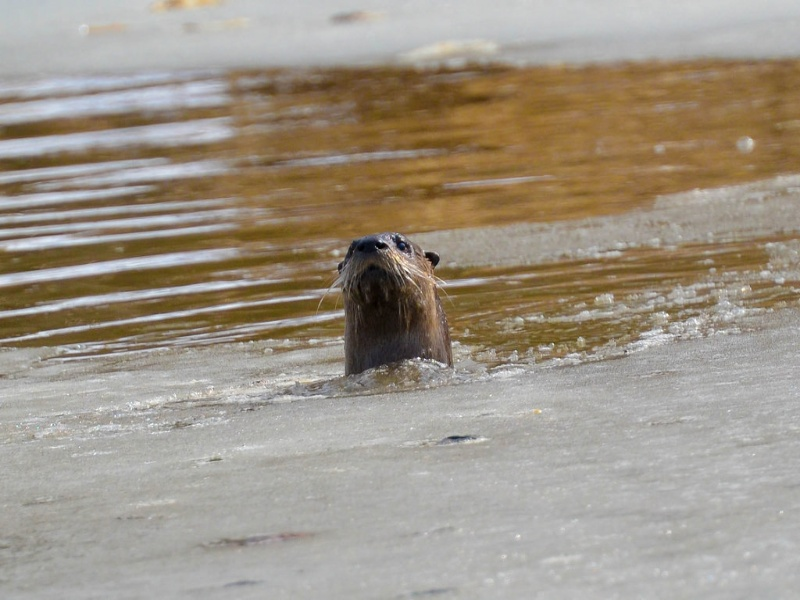minkish: (321, 227, 463, 394)
